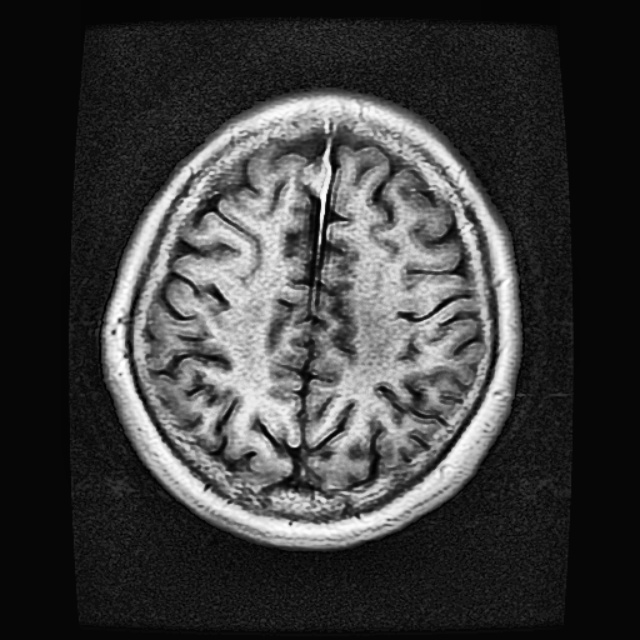Glioma: (307, 157, 327, 193)
